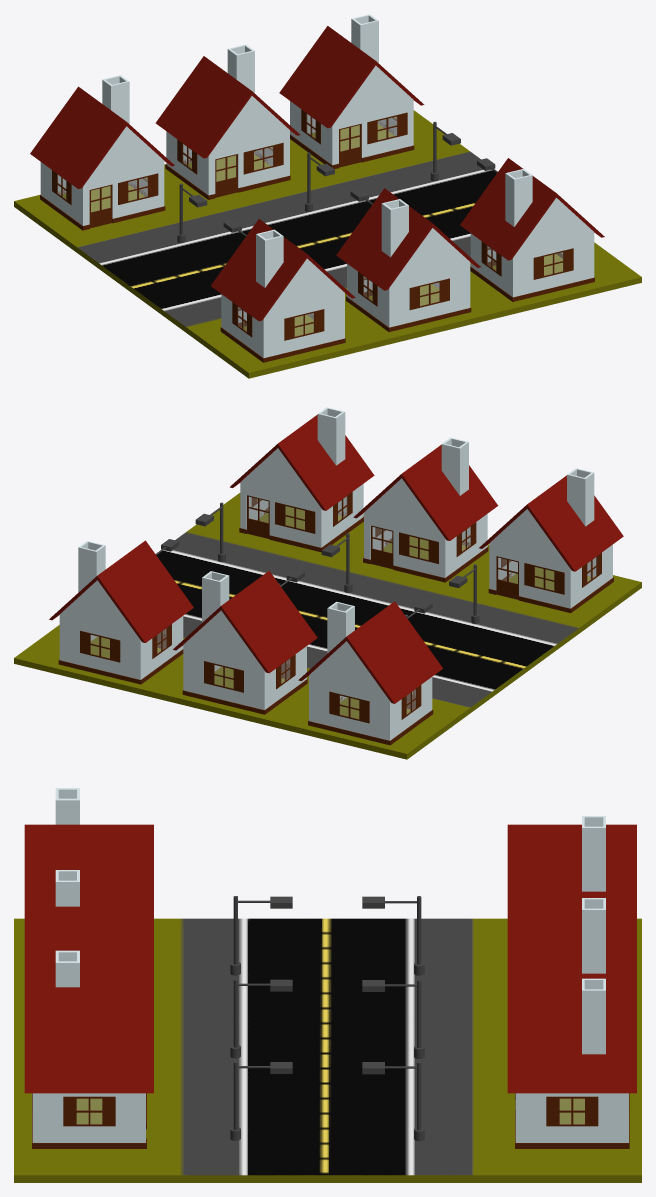
File: Tile.fbx
3 views of the same model, one above another, from view 1: azimuth 30°, elevation 25°; view 2: azimuth 150°, elevation 25°; view 3: azimuth 270°, elevation 25° (orthographic). The views are drawn at different scales.
Visible parts, largest first — view 1: House_2 (×6), Ground, Window (×6), Glass (×5); view 2: House_2 (×6), Ground, Window (×6), Glass (×6); view 3: Ground, House_2 (×6), Window (×2), Glass (×2), Lamp6, Lamp3, Lamp4, Lamp2, Lamp5, Lamp.
Part boxes in pixels (box(x1,y1,x2,y2)): House_2 (×6): box(30, 14, 604, 362); Ground: box(14, 110, 641, 378); Window (×6): box(52, 109, 573, 340); Glass (×5): box(57, 114, 563, 306); House_2 (×6): box(49, 407, 623, 745); Ground: box(14, 493, 641, 759); Window (×6): box(80, 492, 601, 723); Glass (×6): box(90, 496, 596, 719); Ground: box(14, 918, 641, 1182); House_2 (×6): box(24, 788, 636, 1148); Window (×2): box(32, 1093, 629, 1126); Glass (×2): box(76, 1098, 584, 1124); Lamp6: box(362, 1061, 424, 1141); Lamp3: box(230, 896, 292, 975); Lamp4: box(362, 896, 424, 975); Lamp2: box(230, 978, 292, 1058); Lamp5: box(362, 979, 424, 1058); Lamp: box(230, 1061, 292, 1140).
Size of the model in its own units: 24.19 by 6.99 by 25.03.
